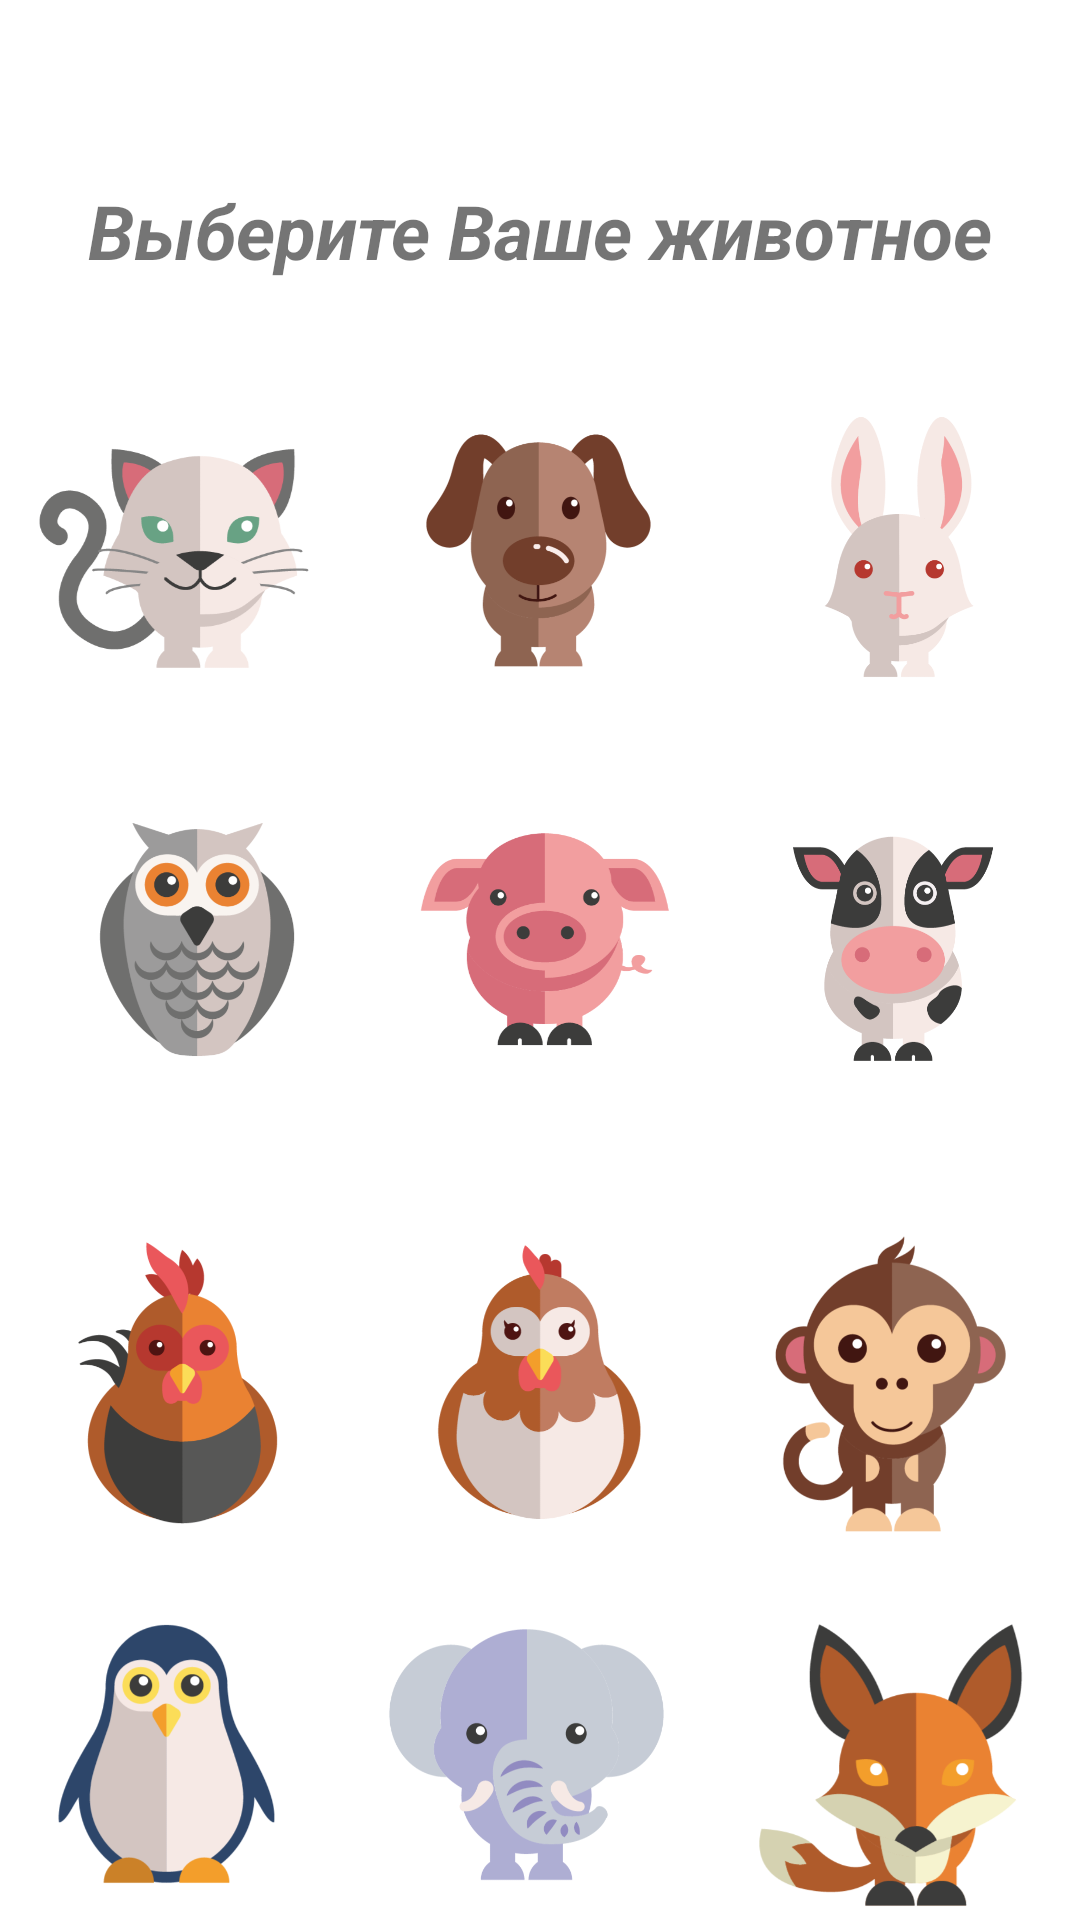

Screen size 1080px×1920px. Icon name, then its box in pixels as (x1, y1, x2, y2):
cat: (39, 449, 309, 668)
chicken: (438, 1245, 641, 1519)
cow: (793, 837, 993, 1061)
dog: (426, 434, 651, 667)
elephant: (389, 1629, 664, 1880)
fox: (759, 1624, 1022, 1906)
makaka: (775, 1237, 1006, 1532)
owl: (100, 823, 294, 1056)
pig: (421, 833, 669, 1045)
pingvin: (58, 1625, 275, 1883)
rabbit: (825, 417, 972, 677)
rooster: (78, 1242, 278, 1524)
